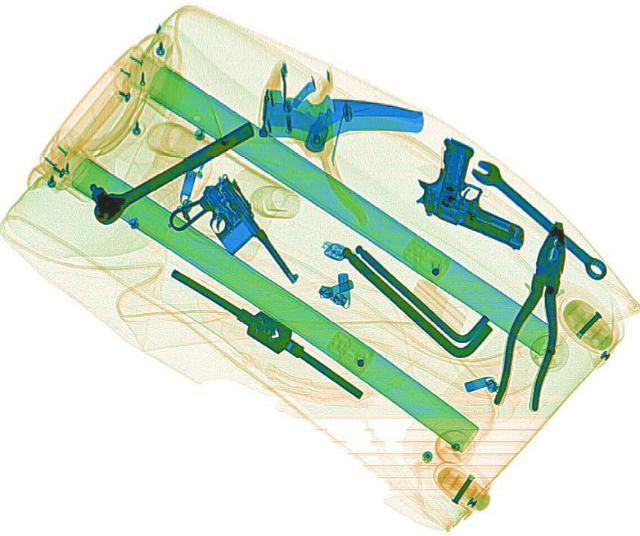Gun: (152, 170, 304, 306), (398, 132, 566, 249)
Pliers: (486, 217, 588, 409)
Wrench: (464, 153, 616, 281)
